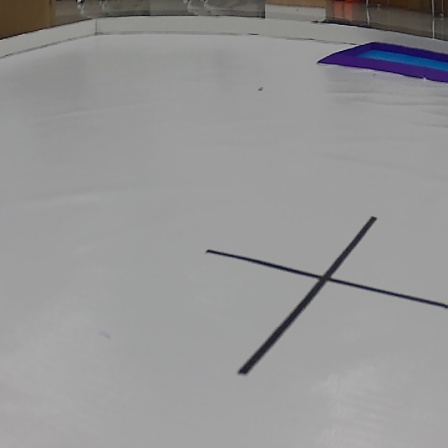blue_aim: (317, 38, 448, 96)
